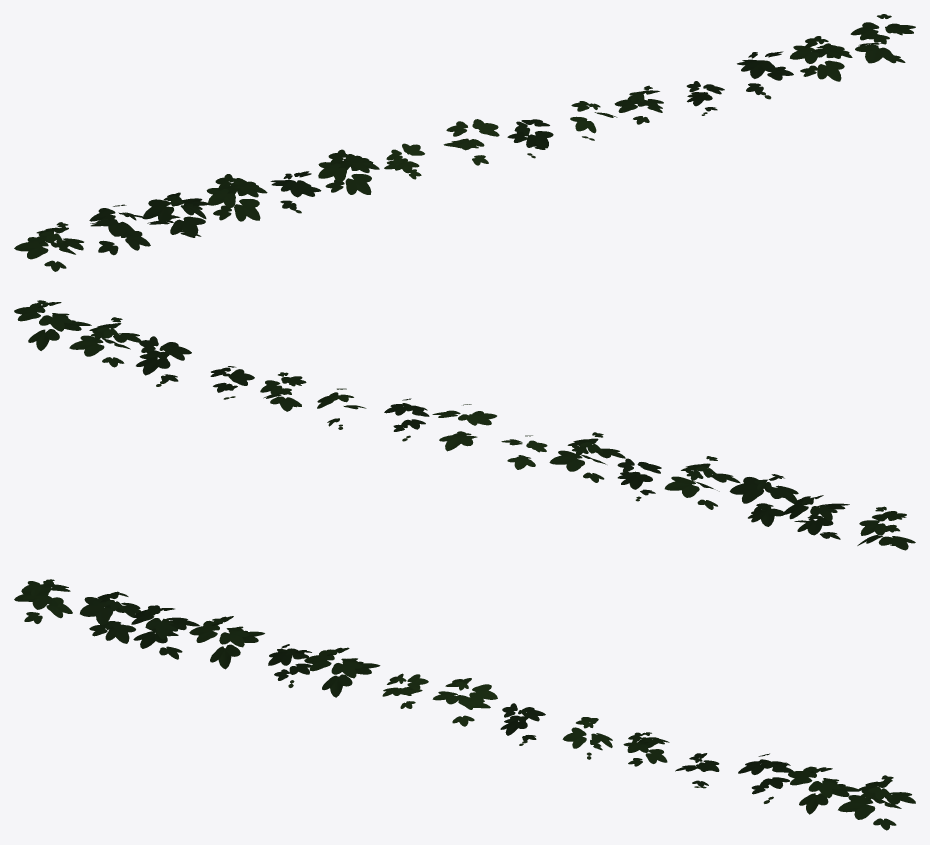
The model's file is ROW_17_SEG0_foliage.dae.
The picture shows the model from 3 angles, top to bottom: view 1: azimuth 30°, elevation 25°; view 2: azimuth 150°, elevation 25°; view 3: azimuth 330°, elevation 25°; orthographic projection.
Visible parts, largest first — view 1: ROW_17_SEG0_foliage; view 2: ROW_17_SEG0_foliage; view 3: ROW_17_SEG0_foliage.
Part boxes in pixels (x1=…): ROW_17_SEG0_foliage: x1=14, y1=14, x2=915, y2=271; ROW_17_SEG0_foliage: x1=14, y1=300, x2=915, y2=550; ROW_17_SEG0_foliage: x1=14, y1=579, x2=915, y2=830.
Size of the model in its own units: 4.61 by 0.3841 by 0.2644.
